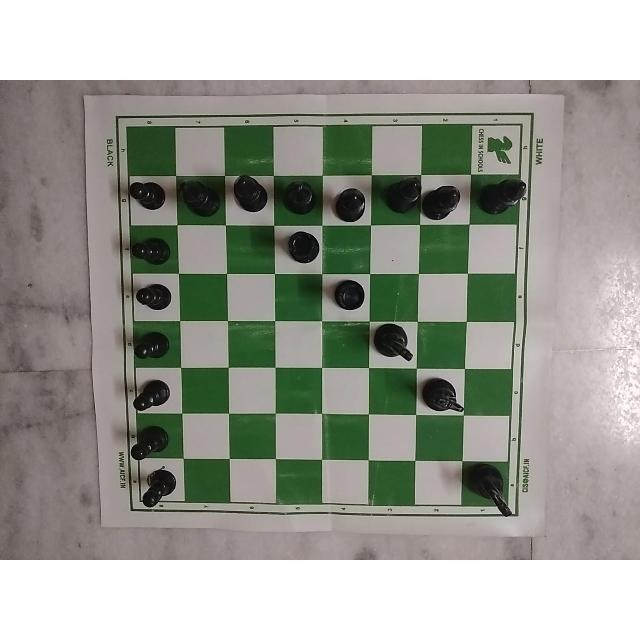black-bishop: (478, 171, 530, 216), (225, 171, 266, 218), (174, 176, 221, 217), (423, 179, 465, 224), (335, 178, 375, 225), (282, 178, 320, 220), (383, 174, 422, 212)
black-knight: (463, 459, 524, 518), (374, 320, 415, 370), (423, 373, 467, 418)
black-pawn: (129, 326, 177, 370), (136, 466, 177, 513), (127, 421, 171, 463), (125, 172, 166, 215), (130, 283, 176, 317), (130, 378, 174, 413), (128, 233, 172, 267)
black-rook: (284, 224, 324, 272), (323, 275, 367, 310)
